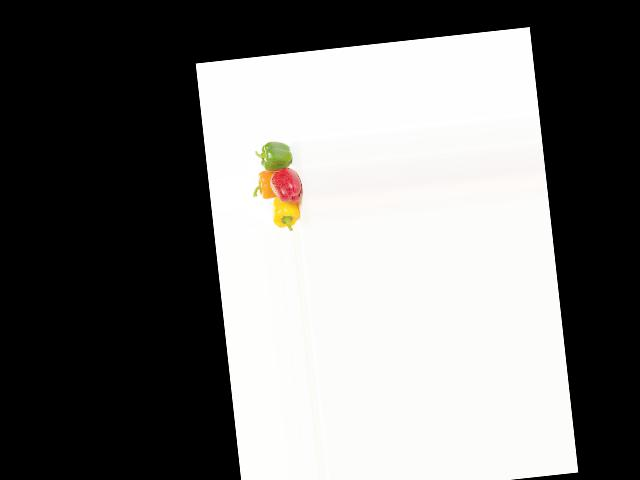bell_pepper: (256, 138, 298, 174)
